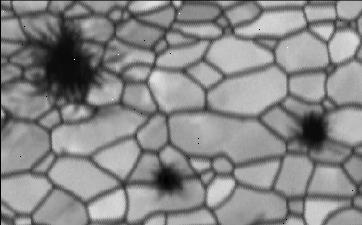good_void: (19, 6, 117, 115), (284, 106, 341, 161), (143, 152, 189, 204)
